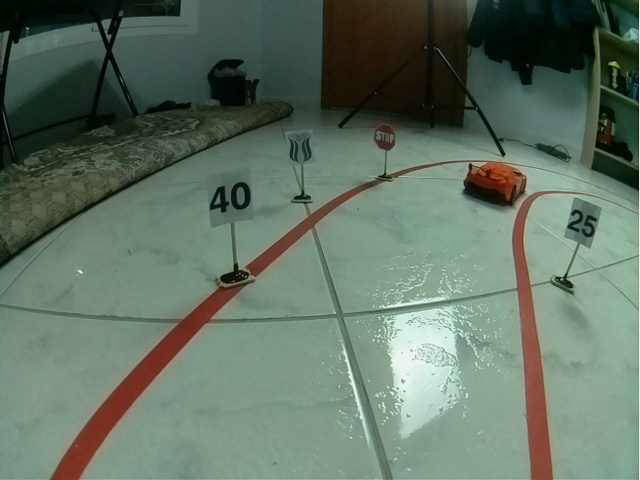Lambo: (463, 161, 527, 206)
Speed Limit 25: (564, 197, 603, 249)
Speed Limit 40: (207, 171, 255, 228)
Stop: (374, 123, 396, 152)
Subu: (285, 130, 315, 165)
